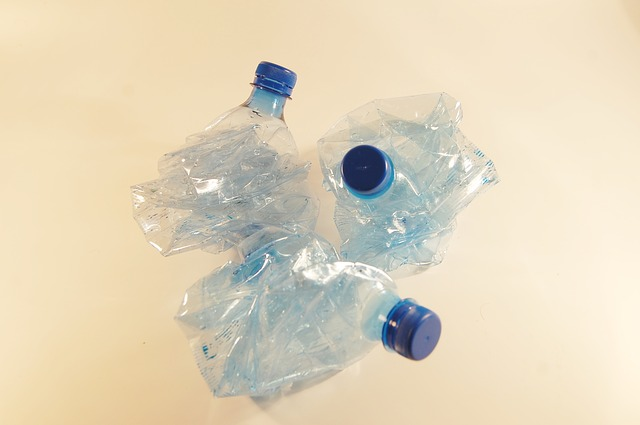plastic_bottle: (168, 230, 447, 407), (134, 52, 309, 236), (314, 84, 506, 236)
